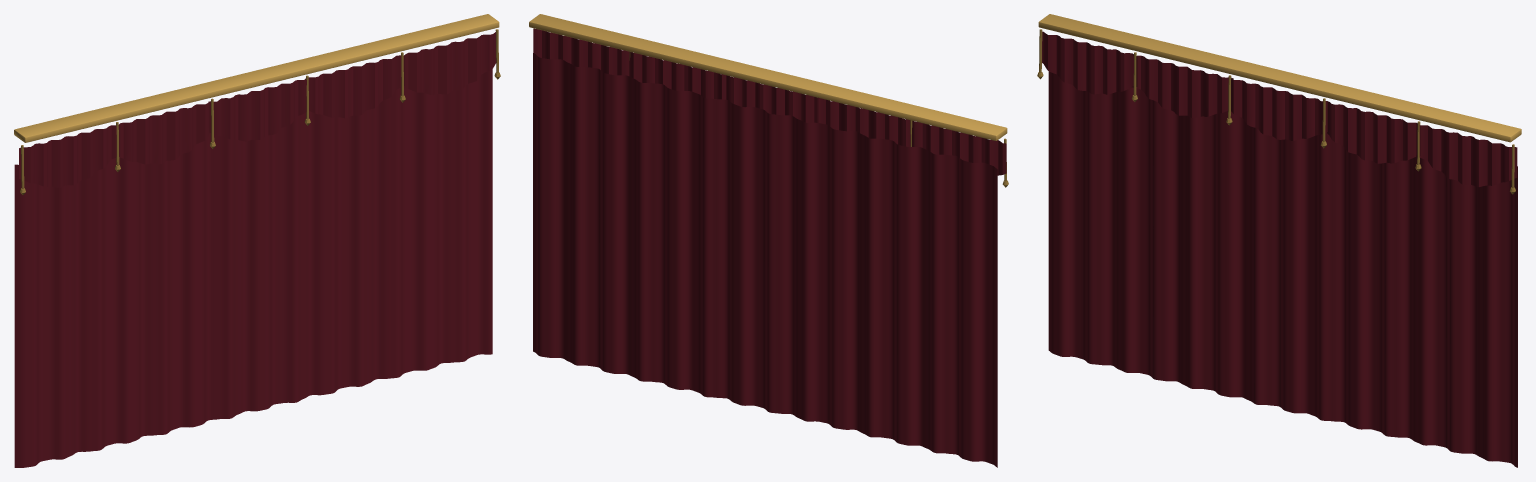
File: curtain_stage.glb
3 renders of one model, left to right at view 1: azimuth 30°, elevation 25°; view 2: azimuth 150°, elevation 25°; view 3: azimuth 330°, elevation 25°, orthographic.
Visible parts, largest first — view 1: curtain_stage; view 2: curtain_stage; view 3: curtain_stage.
Boxes of the visible parts, bbox=[...] form: curtain_stage: bbox=[14, 14, 500, 467]; curtain_stage: bbox=[529, 14, 1008, 467]; curtain_stage: bbox=[1037, 14, 1521, 467].
Size of the model in its own units: 10.12 by 6.8 by 0.42.
